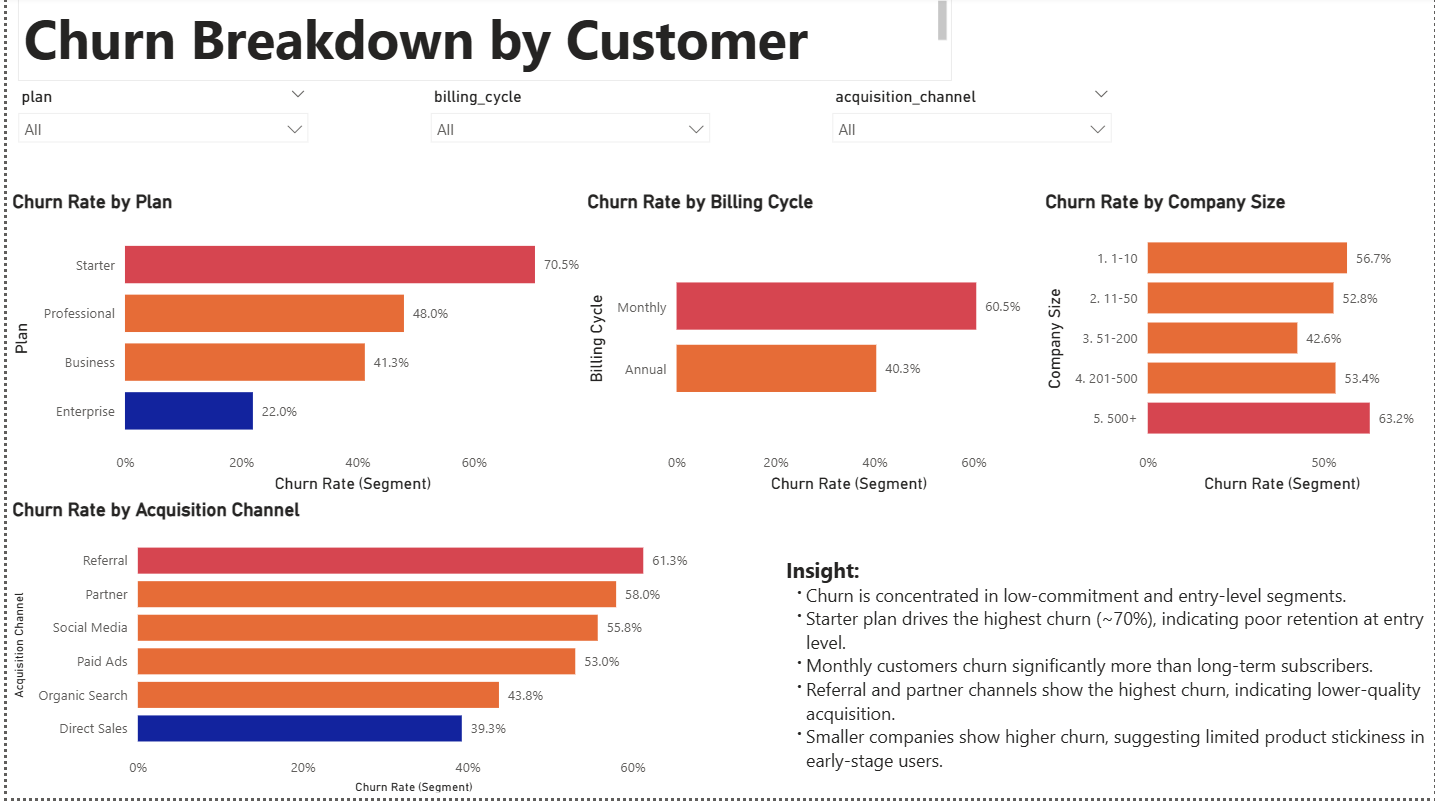

What the dashboard file says about the page in this screenshot:
{"tool":"powerbi","page":{"name":"Churn Sources","canvas":[1280,720],"ordinal":1},"visuals":[{"type":"textbox","box":[9.8,0,837.7,77],"z":0},{"type":"clusteredBarChart","title":"Churn Rate by Plan","fields":{"Category":["cac.plan"],"Y":["Measures (2).Churn Rate (Segment)"]},"box":[0,175.1,530.9,276],"z":1000},{"type":"barChart","title":"Churn Rate by Acquisition Channel","fields":{"Category":["subscriptions_clean.acquisition_channel"],"Y":["Measures (2).Churn Rate (Segment)"]},"box":[0,451.1,628.9,268.9],"z":2000},{"type":"barChart","title":"Churn Rate by Company Size","fields":{"Y":["Measures (2).Churn Rate (Segment)"],"Category":["CompanySizeLookup.Display Size"]},"box":[925.9,175.1,354.4,276],"z":3000},{"type":"slicer","fields":{"Values":["cac.plan"]},"box":[0,77,280.2,70],"z":4000},{"type":"slicer","fields":{"Values":["segmentation.billing_cycle"]},"box":[369.8,77,270.4,70],"z":5000},{"type":"slicer","fields":{"Values":["segmentation.acquisition_channel"]},"box":[729.8,77,270.4,70],"z":6000},{"type":"textbox","box":[693.4,497.3,586.9,222.7],"z":7000},{"type":"barChart","title":"Churn Rate by Billing Cycle","fields":{"Category":["subscriptions_clean.billing_cycle"],"Y":["Measures (2).Churn Rate (Segment)"]},"box":[515.5,175.1,410.4,276],"z":8000}]}

Visuals, with their boxes in screenshot pixels (x1, y1, x2, y2), scaled from the page's 1280x720 canvas onto the 1435x801 screenshot:
textbox: (x1=11, y1=0, x2=950, y2=86)
"Churn Rate by Plan" clusteredBarChart: (x1=0, y1=195, x2=595, y2=502)
"Churn Rate by Acquisition Channel" barChart: (x1=0, y1=502, x2=705, y2=800)
"Churn Rate by Company Size" barChart: (x1=1038, y1=195, x2=1434, y2=502)
slicer - cac.plan: (x1=0, y1=86, x2=314, y2=164)
slicer - segmentation.billing_cycle: (x1=415, y1=86, x2=718, y2=164)
slicer - segmentation.acquisition_channel: (x1=818, y1=86, x2=1121, y2=164)
textbox: (x1=777, y1=553, x2=1434, y2=800)
"Churn Rate by Billing Cycle" barChart: (x1=578, y1=195, x2=1038, y2=502)
